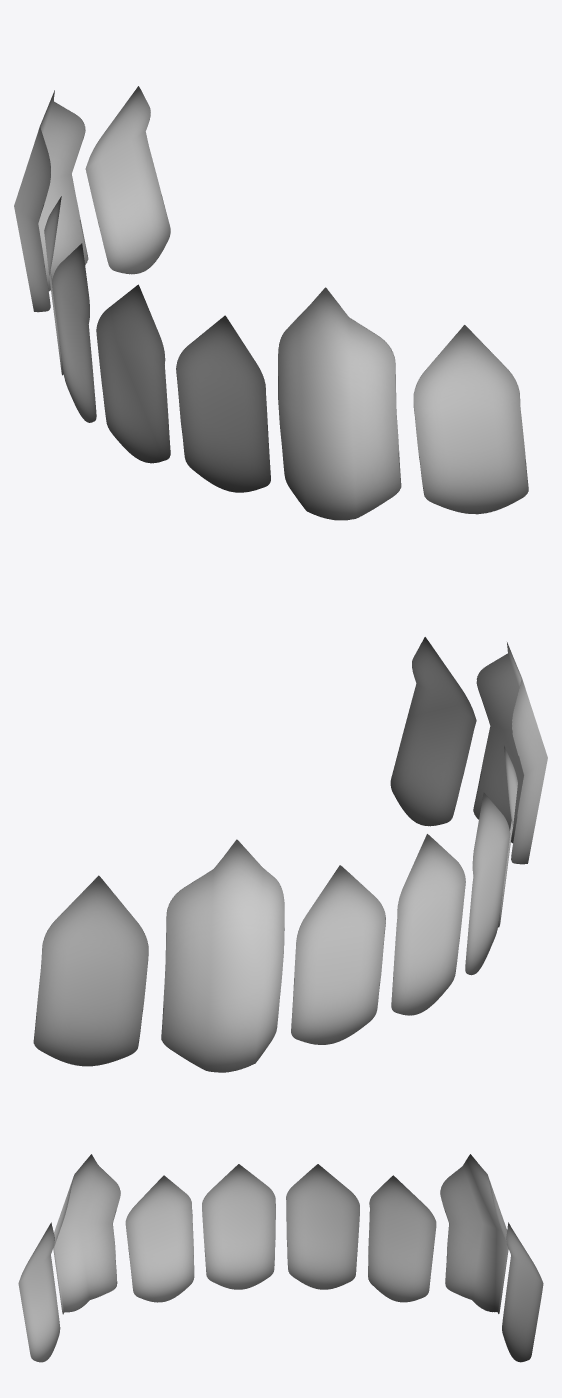
File: EnemyGhost_TeethBottom.fbx
The picture shows the model from 3 angles, top to bottom: view 1: azimuth 30°, elevation 25°; view 2: azimuth 150°, elevation 25°; view 3: azimuth 270°, elevation 25°; orthographic projection. The views are drawn at different scales.
Visible parts, largest first — view 1: TeethBottom; view 2: TeethBottom; view 3: TeethBottom.
Part boxes in pixels (x1,y1,x2,y2): TeethBottom: [14, 86, 528, 520]; TeethBottom: [33, 637, 547, 1072]; TeethBottom: [18, 1154, 543, 1362].
Size of the model in its own units: 750 by 650 by 1785.
